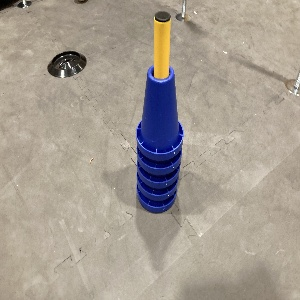Blue_5: (134, 64, 183, 215)
